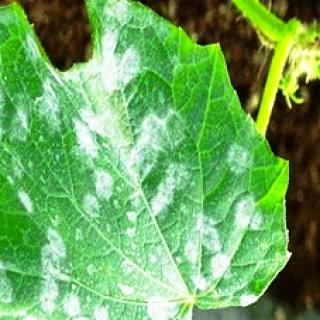grey mildew: (3, 30, 275, 298)
